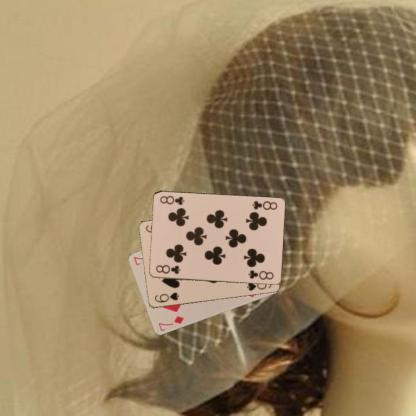6s: (152, 289, 180, 304)
7d: (155, 313, 185, 333)
8c: (153, 262, 182, 276), (249, 198, 278, 212)
